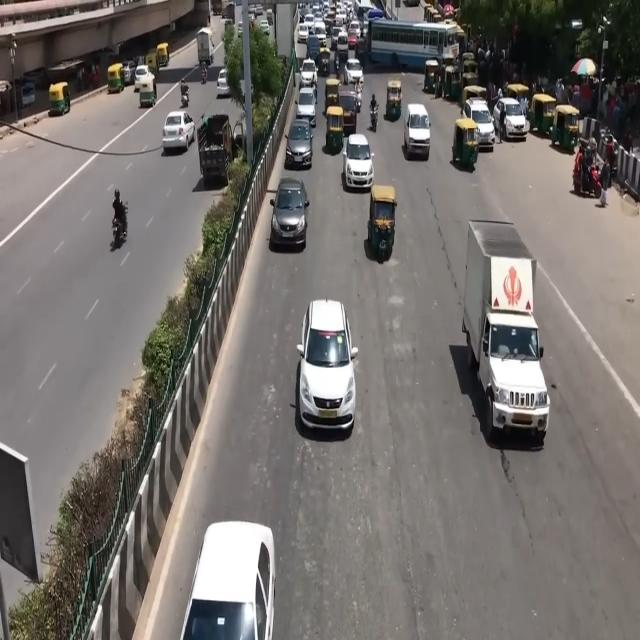auto: (367, 184, 397, 262), (404, 102, 432, 159), (452, 118, 479, 173), (550, 98, 578, 144), (530, 92, 556, 138), (326, 105, 346, 154), (49, 82, 71, 117), (385, 78, 403, 120), (461, 55, 480, 92), (137, 74, 157, 108), (506, 82, 530, 110), (324, 78, 342, 114), (462, 84, 484, 113), (444, 64, 461, 100), (424, 58, 439, 94), (107, 64, 124, 94), (320, 43, 332, 76), (156, 42, 170, 68)
bike-auto: (572, 140, 602, 196), (112, 189, 127, 241), (180, 78, 190, 105), (370, 94, 378, 125)
